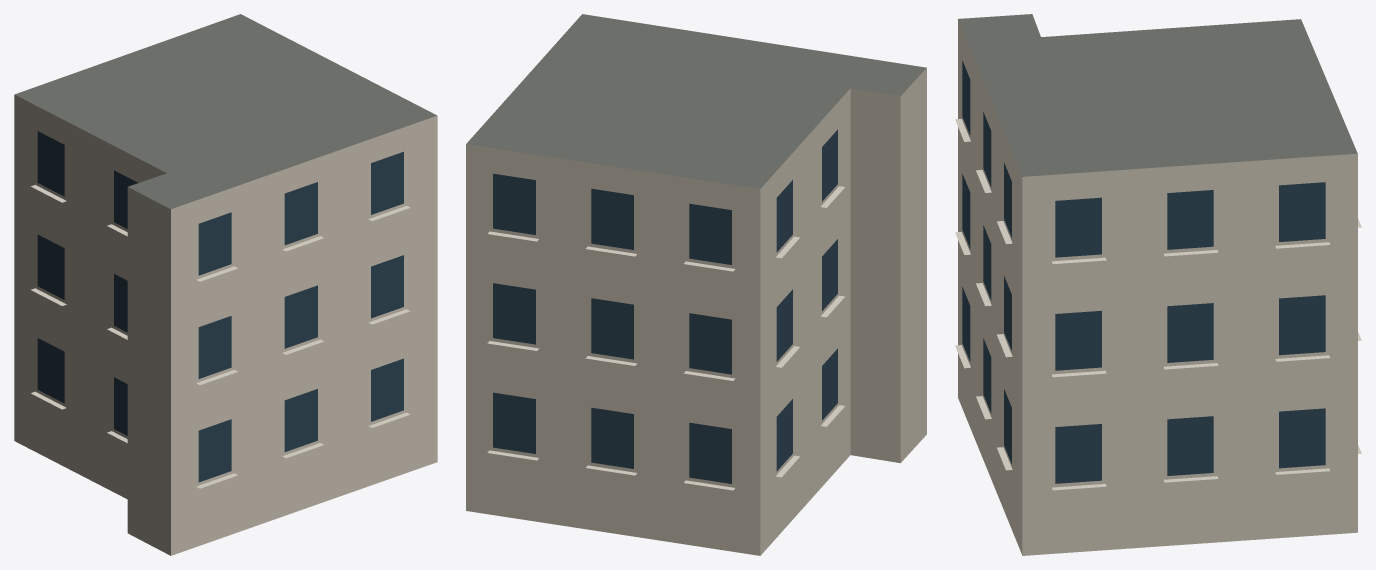
3 views of the same model, side by side, from view 1: azimuth 30°, elevation 25°; view 2: azimuth 150°, elevation 25°; view 3: azimuth 270°, elevation 25° (orthographic). The views are drawn at different scales.
Parts seen in each view (by area): view 1: Footprint 0, Inferred window bays, Window sills; view 2: Footprint 0, Inferred window bays, Window sills; view 3: Footprint 0, Inferred window bays, Window sills.
Part boxes in pixels (x1=…): Footprint 0: x1=14, y1=14, x2=437, y2=555; Inferred window bays: x1=37, y1=131, x2=403, y2=482; Window sills: x1=31, y1=185, x2=410, y2=488; Footprint 0: x1=466, y1=14, x2=926, y2=555; Inferred window bays: x1=493, y1=129, x2=837, y2=483; Window sills: x1=487, y1=186, x2=844, y2=490; Footprint 0: x1=958, y1=14, x2=1357, y2=555; Inferred window bays: x1=962, y1=60, x2=1325, y2=483; Window sills: x1=955, y1=119, x2=1361, y2=490.
Bounding box in the file's own units: 10.26 × 11.01 × 10.72.
